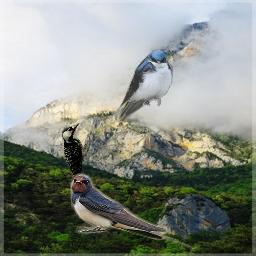Swallow: (70, 173, 196, 249), (117, 49, 173, 119)
Woodpecker: (58, 120, 97, 207)
